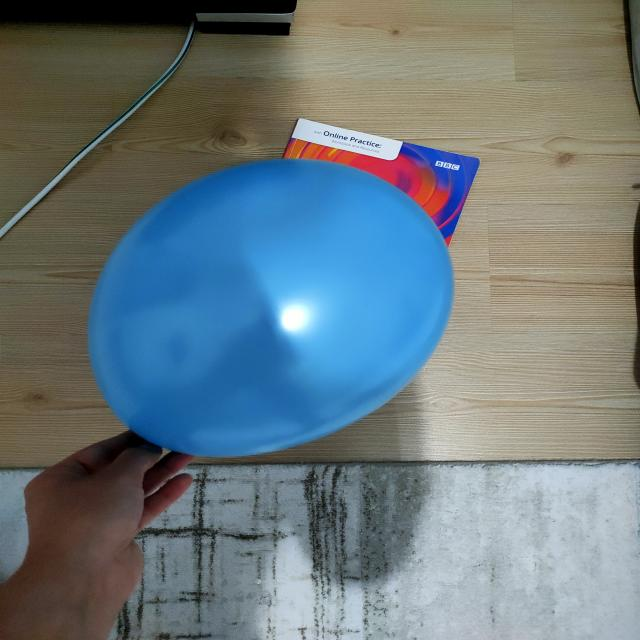blue: (92, 163, 455, 459)
